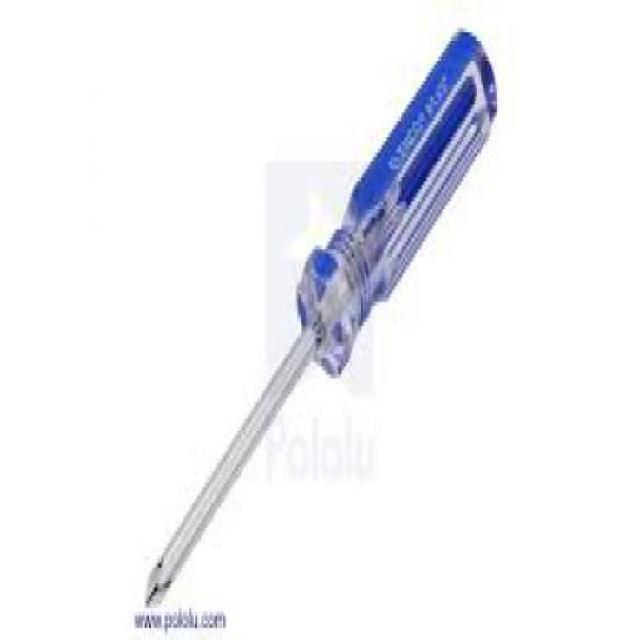screwdriver: (147, 16, 501, 604)
